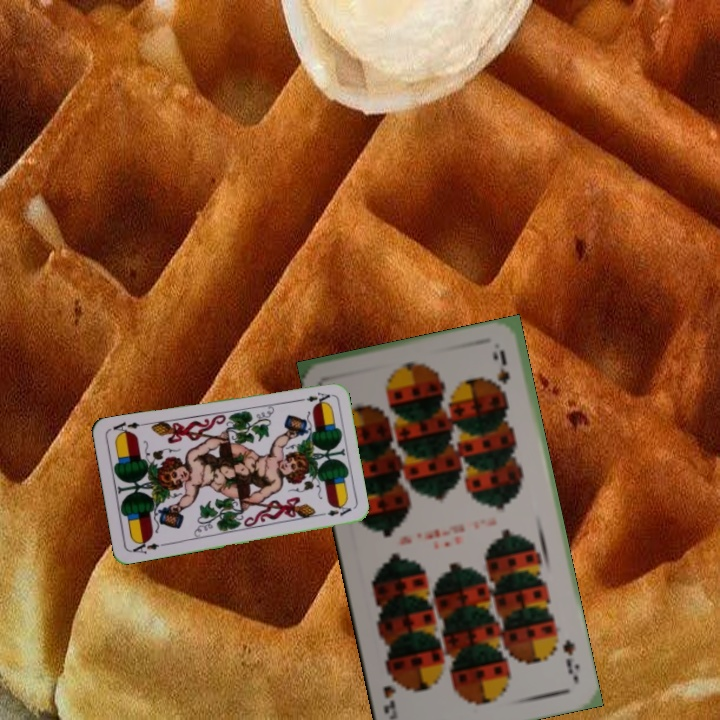EA: (127, 536, 162, 557), (293, 388, 333, 405)
S9: (558, 636, 582, 677)
